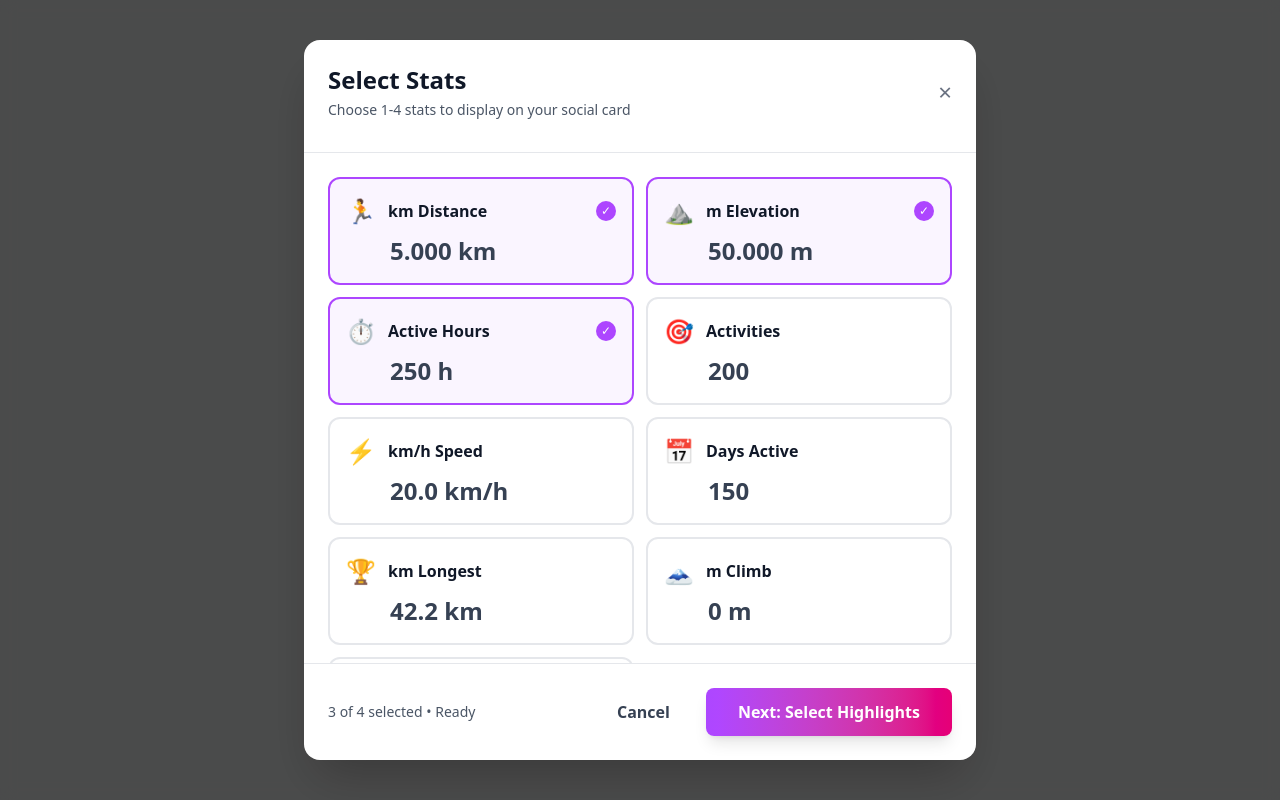
Test case: StatsSelector › allows selecting and deselecting stats
The width and height of the screenshot is (1280, 800).
Click the button "🎯 Activities 200".
click(743, 331)  # box [646, 297, 952, 405]
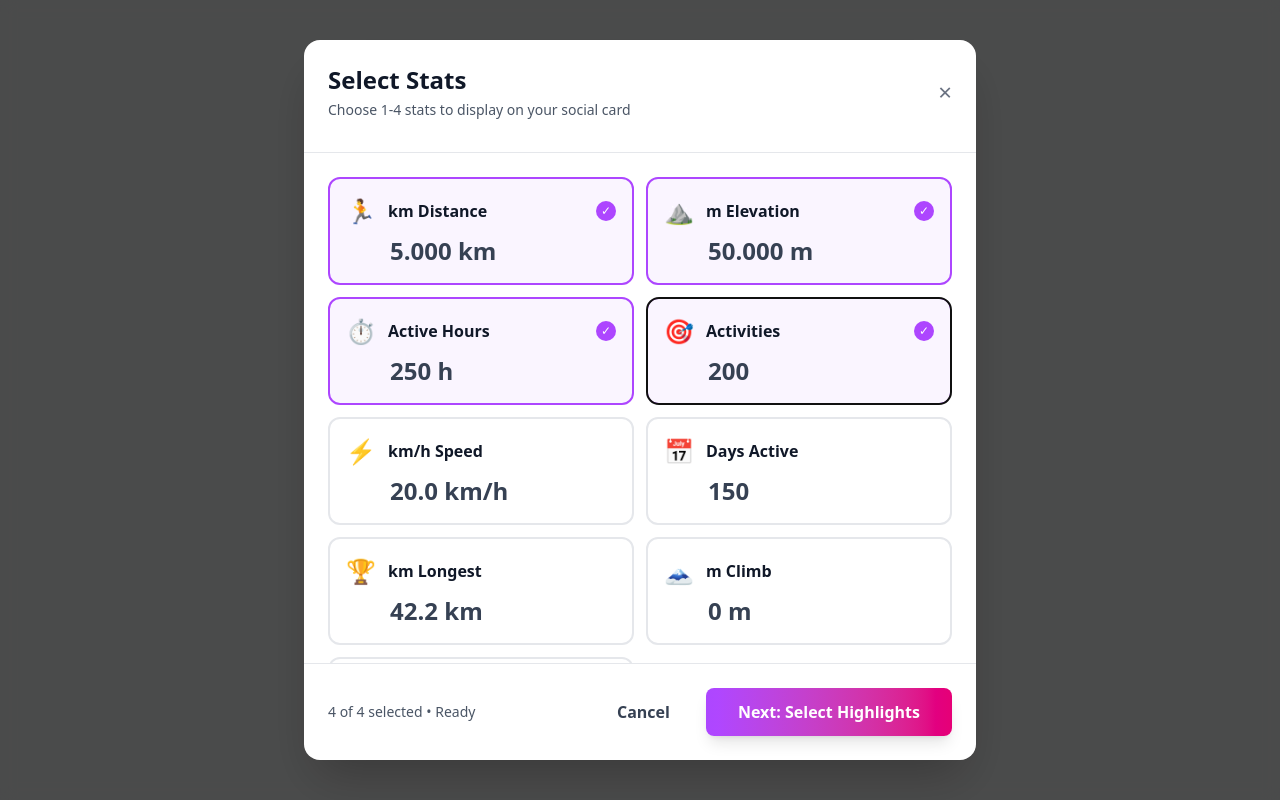
Now the text "4 of 4 selected • Ready" is shown, box [328, 702, 475, 722]
